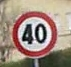limite 40: (10, 9, 58, 59)
